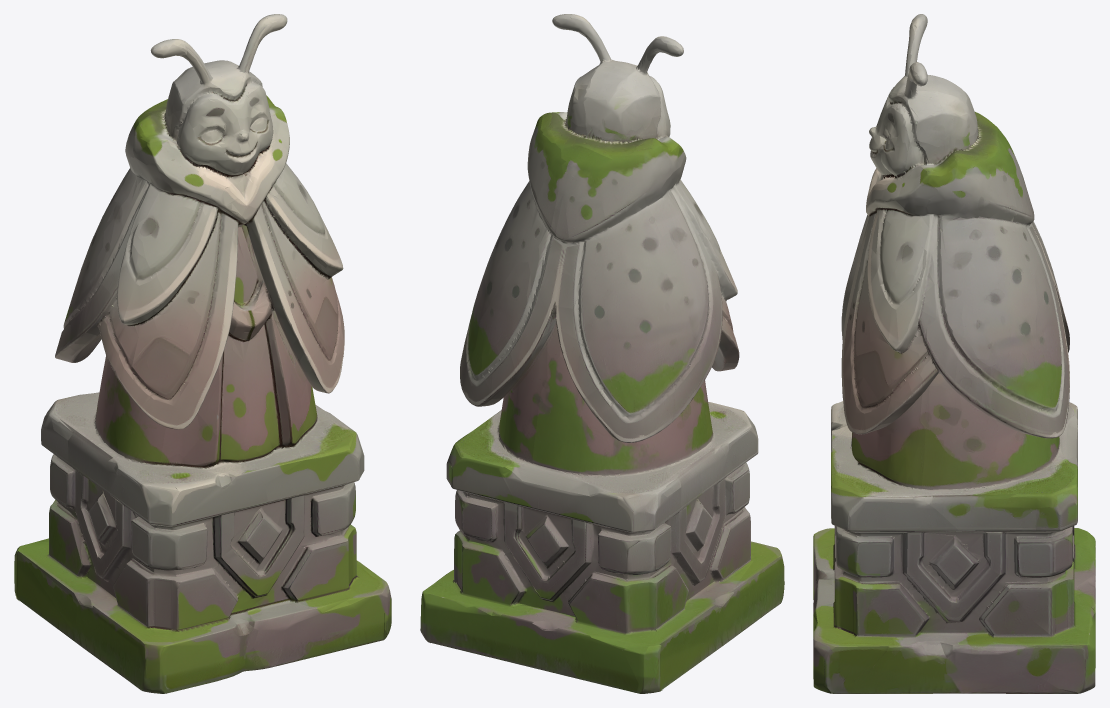
Rendered from nabistatue.glb.
The picture shows the model from 3 angles, left to right: view 1: azimuth 30°, elevation 25°; view 2: azimuth 150°, elevation 25°; view 3: azimuth 270°, elevation 25°; orthographic projection. The views are drawn at different scales.
Size of the model in its own units: 0.8191 by 1.9 by 0.8191.
Materials: 1 (1 with a texture image).
